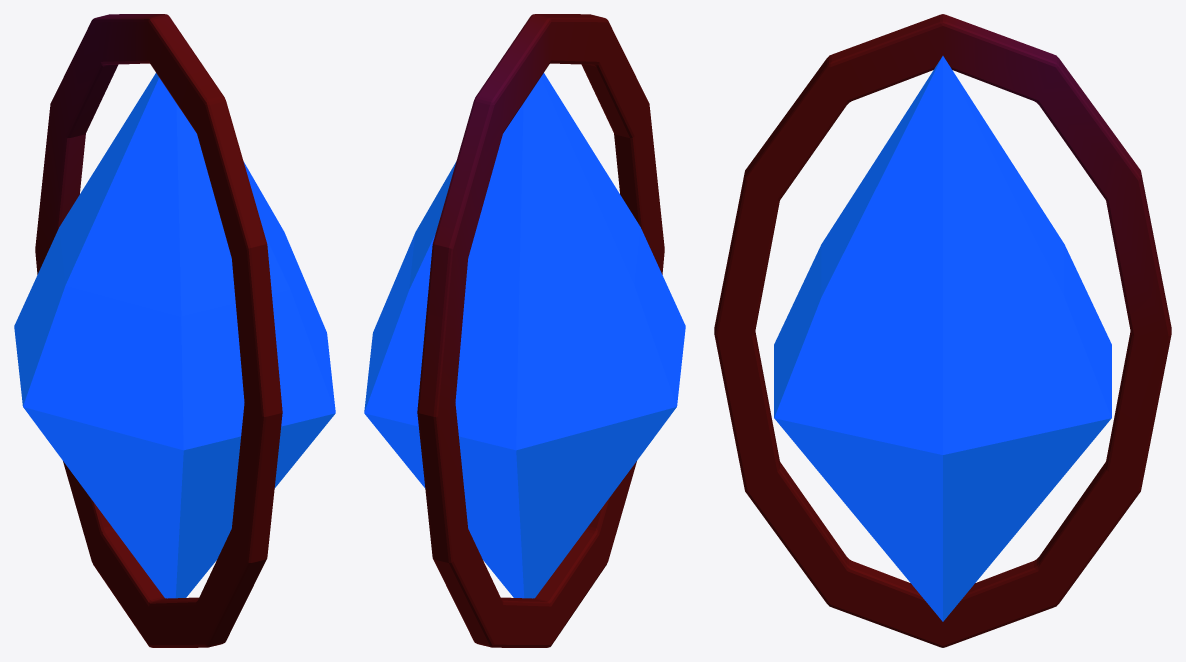
Rendered from GXR_CORE_01.glb.
3 views of the same model, side by side, from view 1: azimuth 30°, elevation 25°; view 2: azimuth 150°, elevation 25°; view 3: azimuth 270°, elevation 25° (orthographic).
Visible parts, largest first — view 1: Mesh_Core_Gem_and_Bezel; view 2: Mesh_Core_Gem_and_Bezel; view 3: Mesh_Core_Gem_and_Bezel.
Boxes of the visible parts, box(x1,y1,x2,y2) form: Mesh_Core_Gem_and_Bezel: box(14, 14, 335, 647); Mesh_Core_Gem_and_Bezel: box(364, 14, 685, 647); Mesh_Core_Gem_and_Bezel: box(714, 14, 1171, 647).
Size of the model in its own units: 0.104 by 0.2056 by 0.136.
